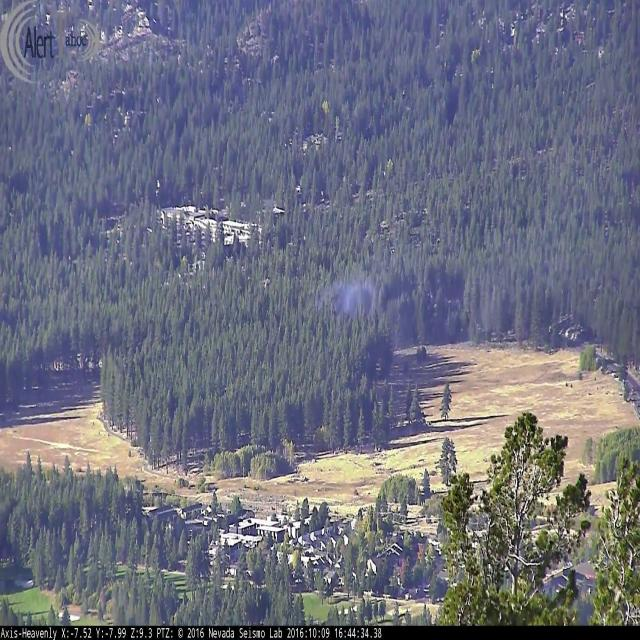smoke: (301, 259, 441, 326)
